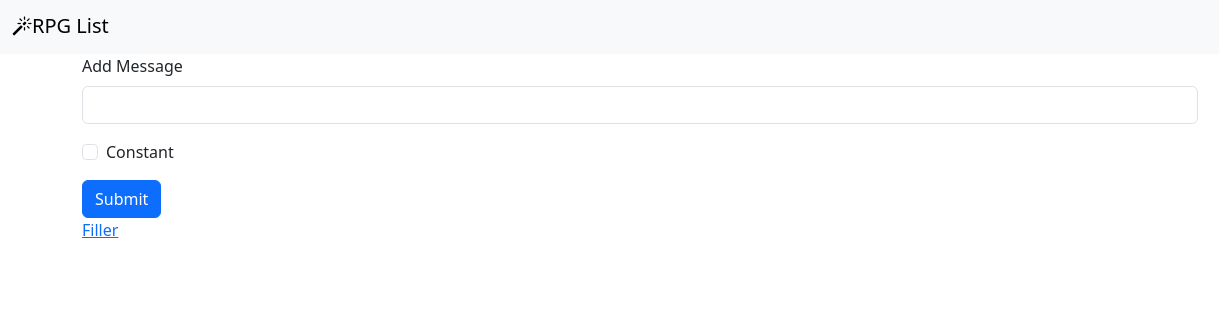
<MessageBlock /> › constant close on button
The width and height of the screenshot is (1219, 331).
Type "Some text" into the field at [640, 105], box [82, 86, 1198, 124]
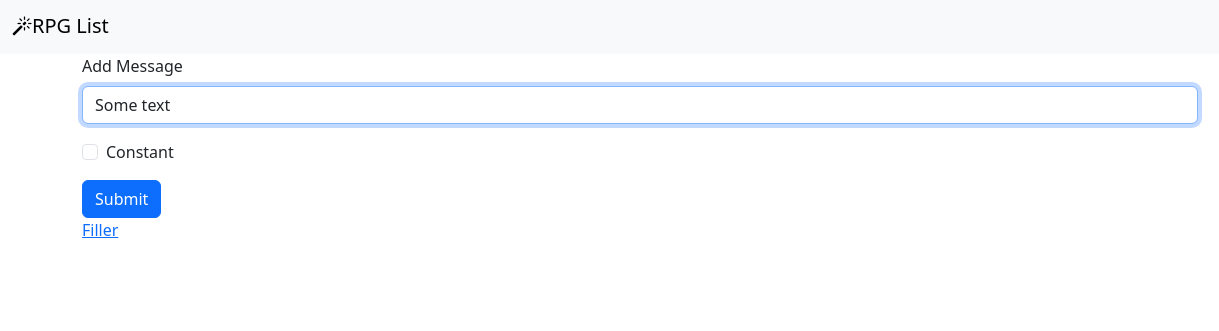
Check the checkbox with class "form-check-input" at [90, 152], box [82, 144, 98, 160]
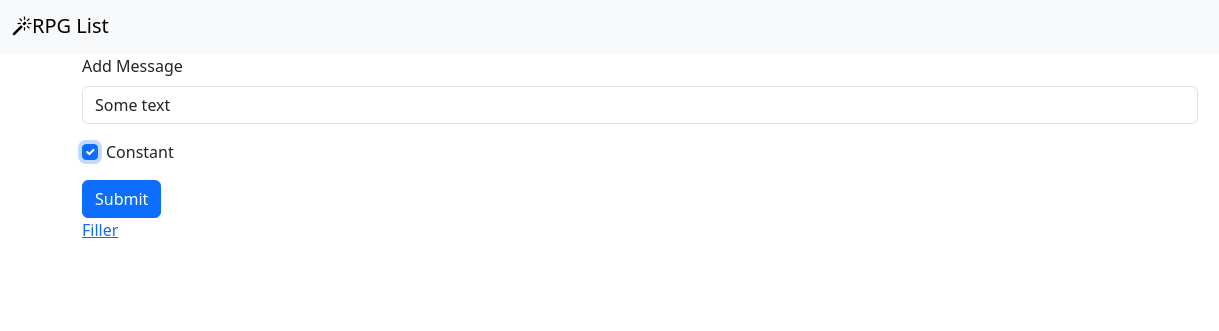
Click the button "Submit" at [122, 199], box [82, 180, 161, 218]
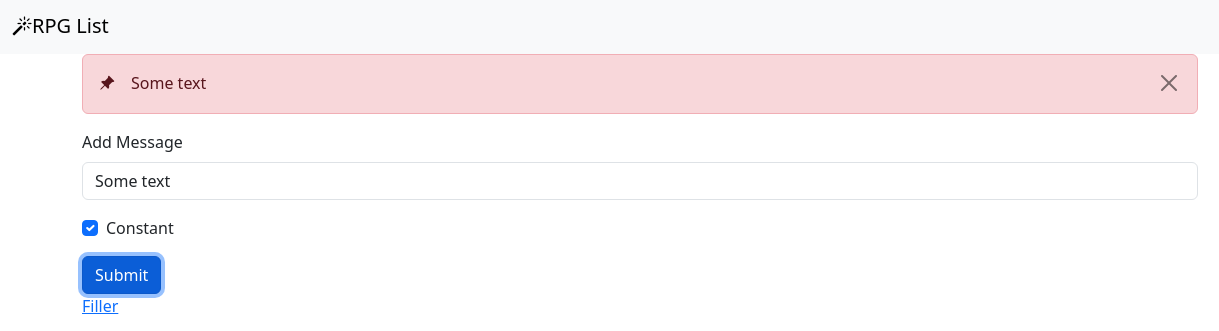
Expected: the element showing "Some text" is shown, [99, 71, 206, 97]
Click the button with class "btn-close" at [1169, 83], box [1157, 71, 1181, 95]
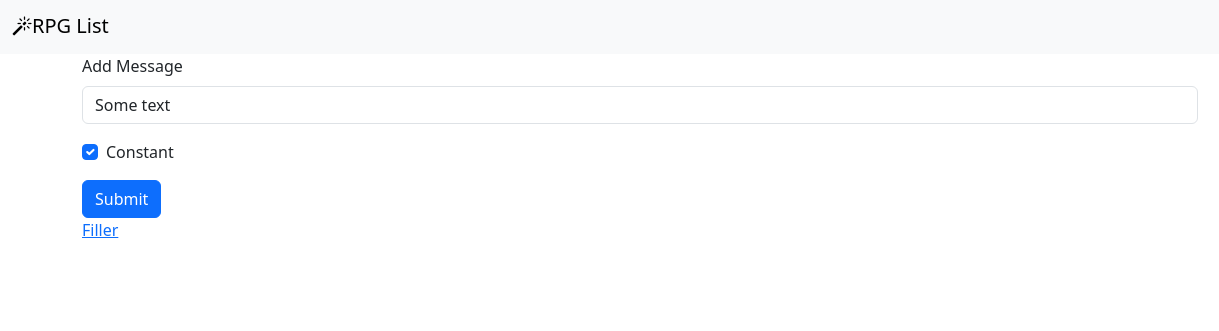
Expected: the element with class "d-flex" is gone
